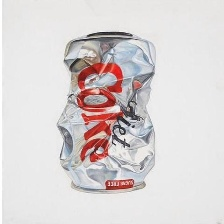can: (54, 31, 158, 195)
